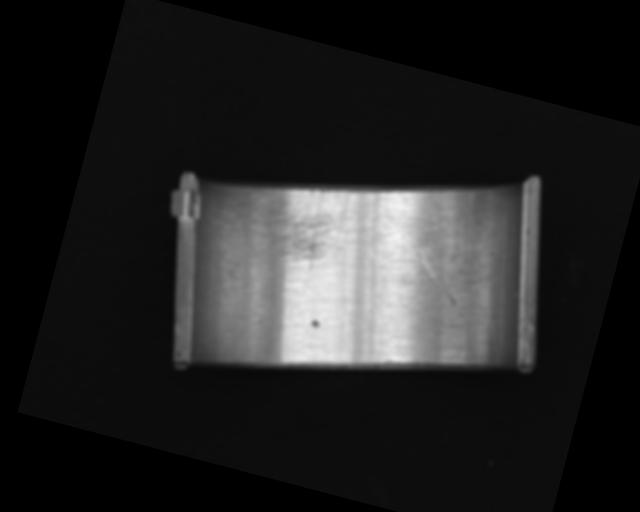bruise: (309, 318, 322, 329)
nick: (338, 245, 406, 366), (458, 274, 519, 368), (410, 253, 466, 306), (417, 201, 442, 257)
scratch: (229, 166, 361, 278)
